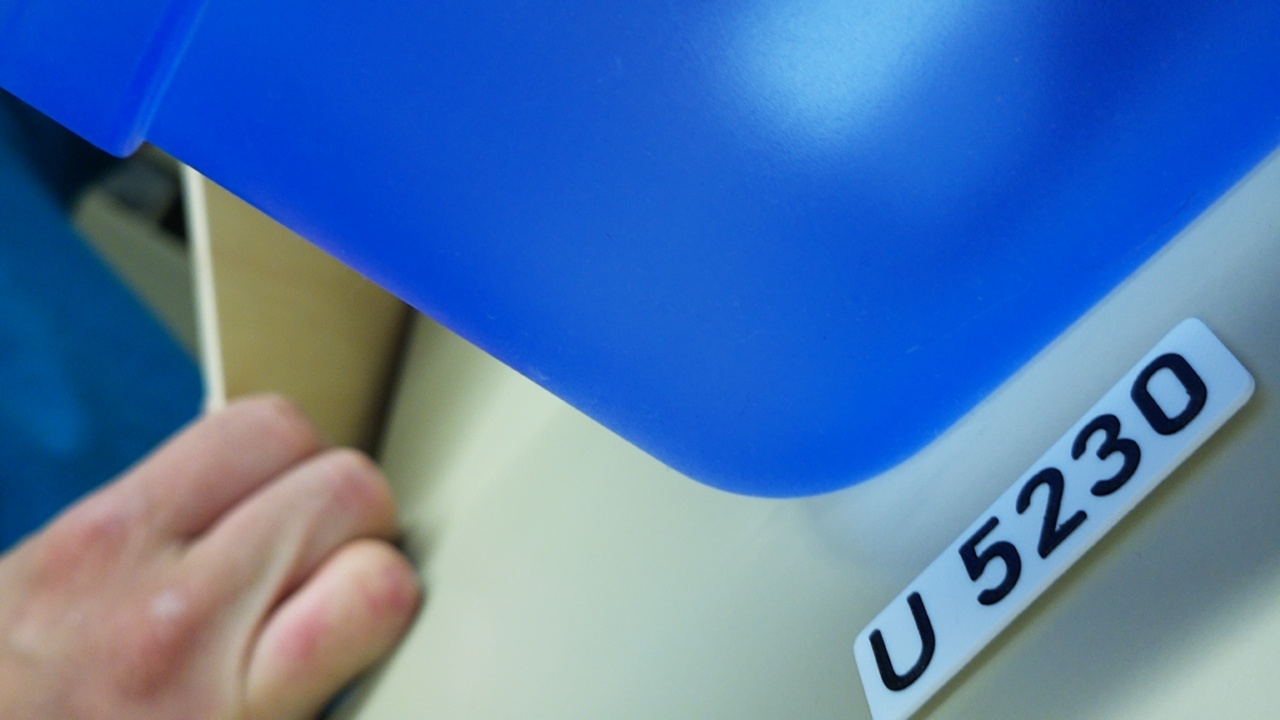license_plate: (848, 312, 1259, 720)
